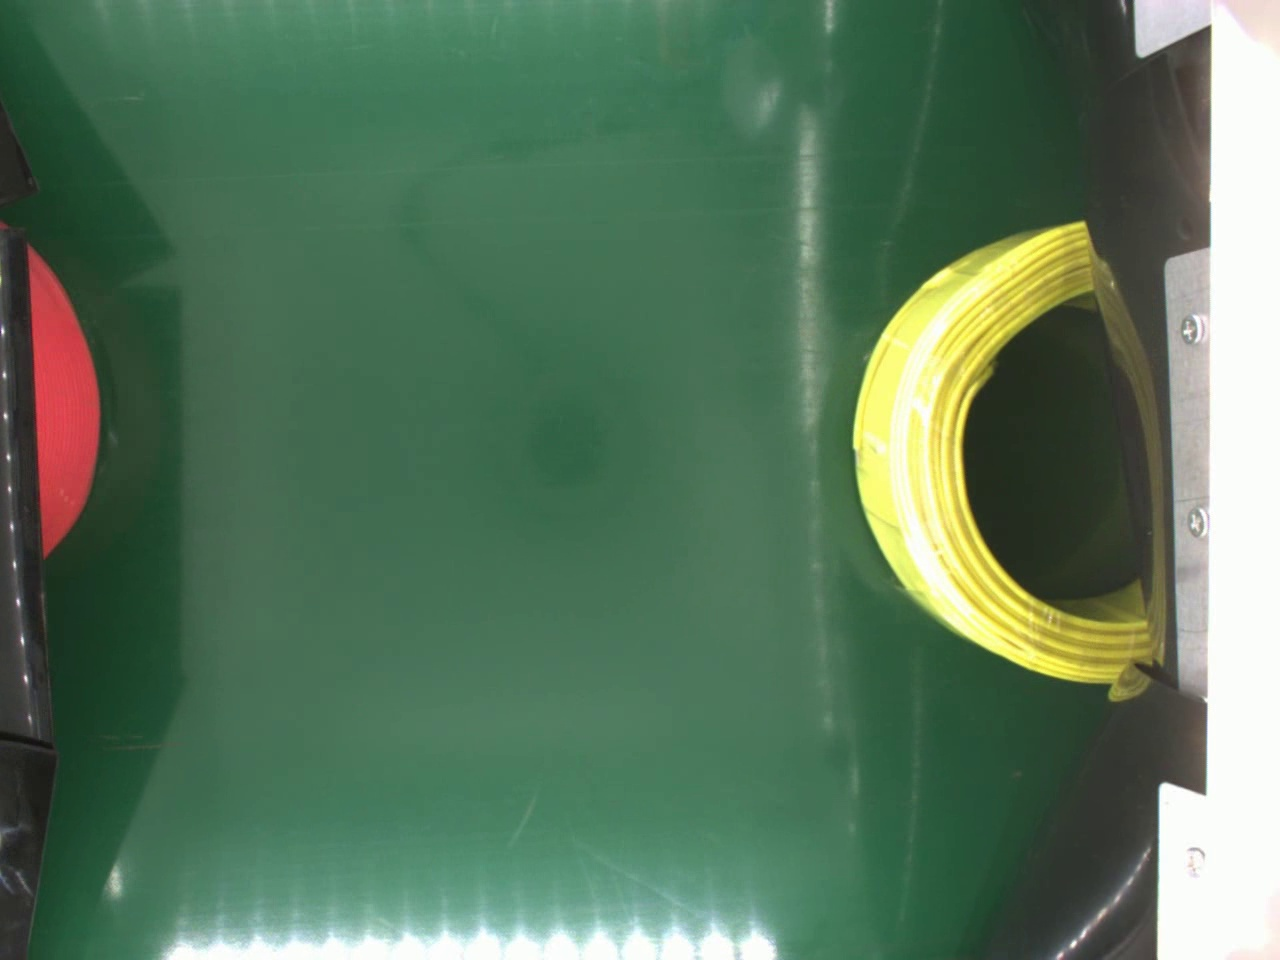yellow: (845, 214, 1142, 688)
